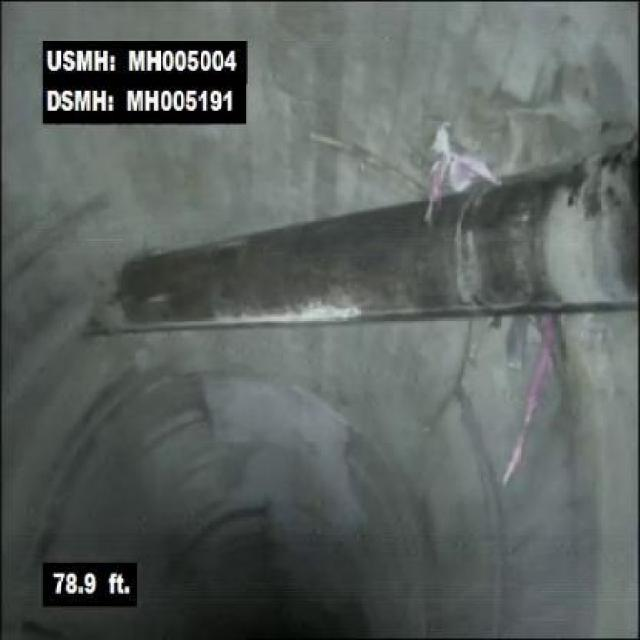Utility intrusion: (114, 134, 629, 335)
